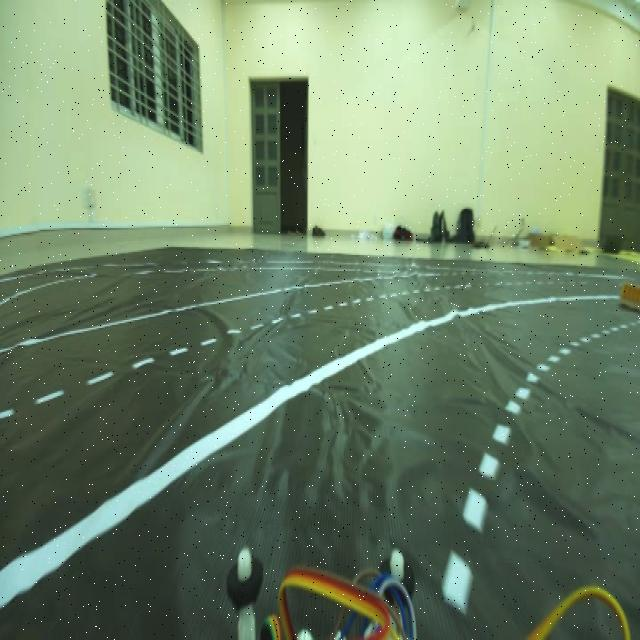roadblock: (618, 276, 640, 310)
